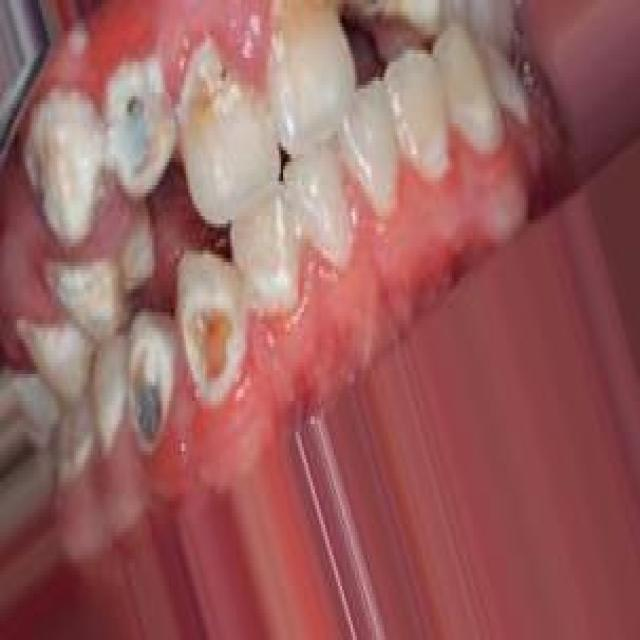caries: (23, 108, 106, 235), (331, 0, 432, 76), (176, 38, 256, 133), (185, 288, 241, 394), (132, 347, 174, 456), (123, 81, 166, 184)
